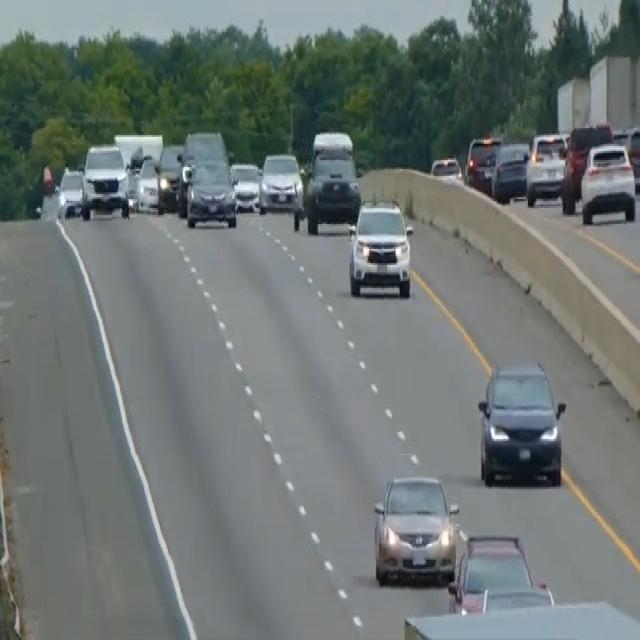car: (476, 357, 566, 487), (372, 471, 459, 585), (447, 528, 554, 613), (579, 139, 636, 224), (561, 121, 613, 211), (176, 128, 228, 215), (185, 156, 237, 228), (82, 140, 130, 218), (525, 130, 568, 206), (258, 149, 303, 217), (491, 139, 530, 201), (464, 133, 501, 192), (156, 142, 183, 212), (181, 128, 228, 167), (113, 130, 163, 165), (56, 164, 88, 218), (613, 124, 639, 190), (229, 160, 260, 212), (135, 154, 160, 212), (125, 144, 147, 204), (429, 153, 463, 185)
jeep: (346, 195, 414, 298), (302, 128, 361, 233)
truck: (403, 598, 639, 638)
